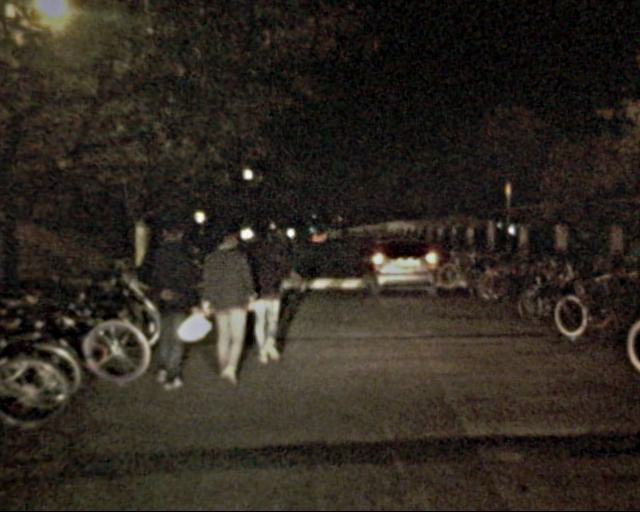person: (132, 216, 201, 390), (188, 229, 260, 385), (233, 224, 292, 367), (269, 223, 304, 294)
